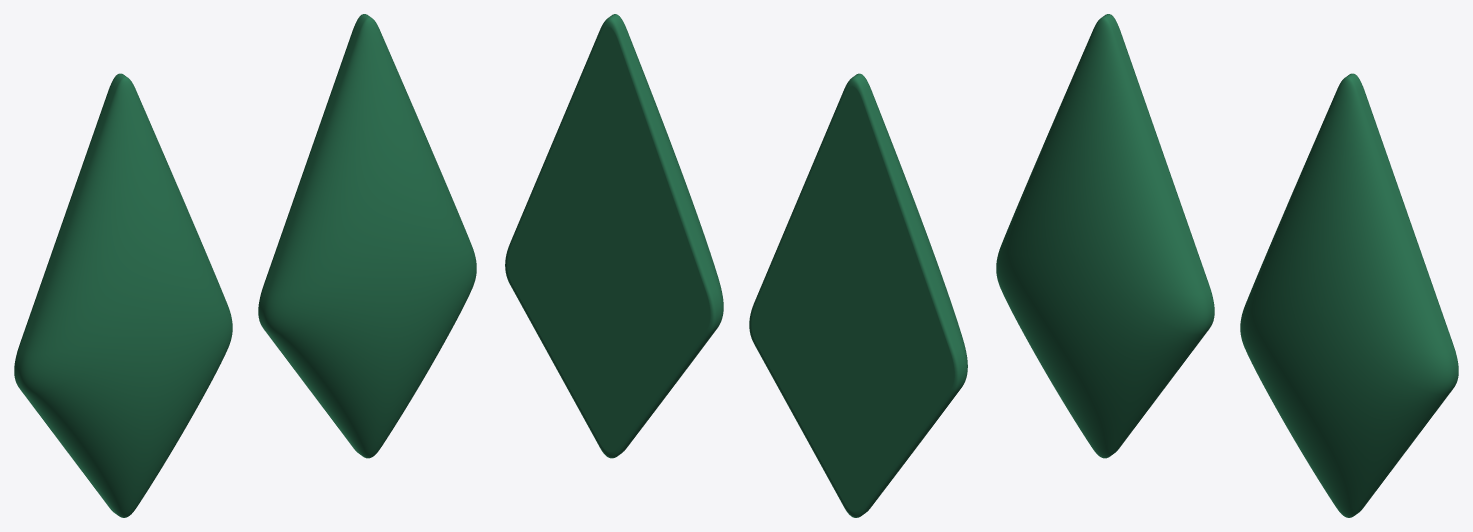
The model's file is matched-pair-v1.glb.
The picture shows the model from 3 angles, left to right: view 1: azimuth 30°, elevation 25°; view 2: azimuth 150°, elevation 25°; view 3: azimuth 330°, elevation 25°; orthographic projection.
Parts seen in each view (by area): view 1: Kite Cabochon 28x14x4mm.001, Kite Cabochon 28x14x4mm; view 2: Kite Cabochon 28x14x4mm.001, Kite Cabochon 28x14x4mm; view 3: Kite Cabochon 28x14x4mm, Kite Cabochon 28x14x4mm.001.
Boxes of the visible parts, bbox=[...] form: Kite Cabochon 28x14x4mm.001: bbox=[258, 14, 476, 458]; Kite Cabochon 28x14x4mm: bbox=[14, 73, 232, 517]; Kite Cabochon 28x14x4mm.001: bbox=[505, 14, 723, 458]; Kite Cabochon 28x14x4mm: bbox=[749, 73, 967, 517]; Kite Cabochon 28x14x4mm: bbox=[996, 14, 1214, 458]; Kite Cabochon 28x14x4mm.001: bbox=[1240, 73, 1458, 517].
Size of the model in its own units: 0.0302 by 0.028 by 0.00398.
